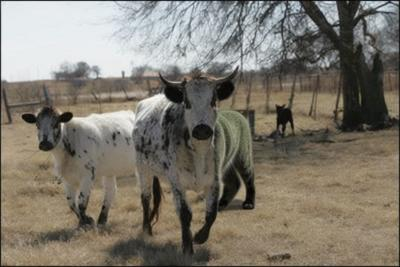cat: (214, 110, 254, 209)
cow: (138, 64, 250, 256), (22, 106, 166, 237)
